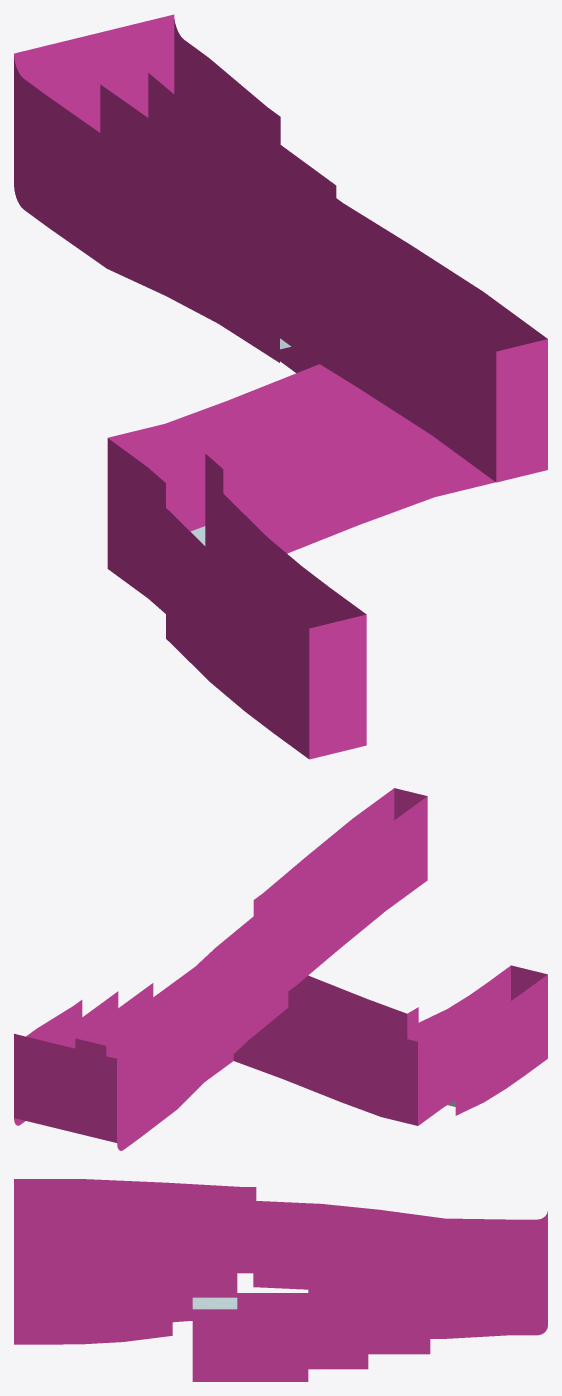
File: Track2.fbx
3 views of the same model, one above another, from view 1: azimuth 30°, elevation 25°; view 2: azimuth 150°, elevation 25°; view 3: azimuth 270°, elevation 25° (orthographic). The views are drawn at different scales.
Parts seen in each view (by area): view 1: Wall; view 2: Wall; view 3: Wall, Track.
Part boxes in pixels (x1,y1,x2,y2): Wall: [14, 14, 547, 759]; Wall: [14, 788, 547, 1150]; Wall: [14, 1179, 547, 1381]; Track: [192, 1297, 237, 1309].
Size of the model in its own units: 4781 by 4766 by 11503.
